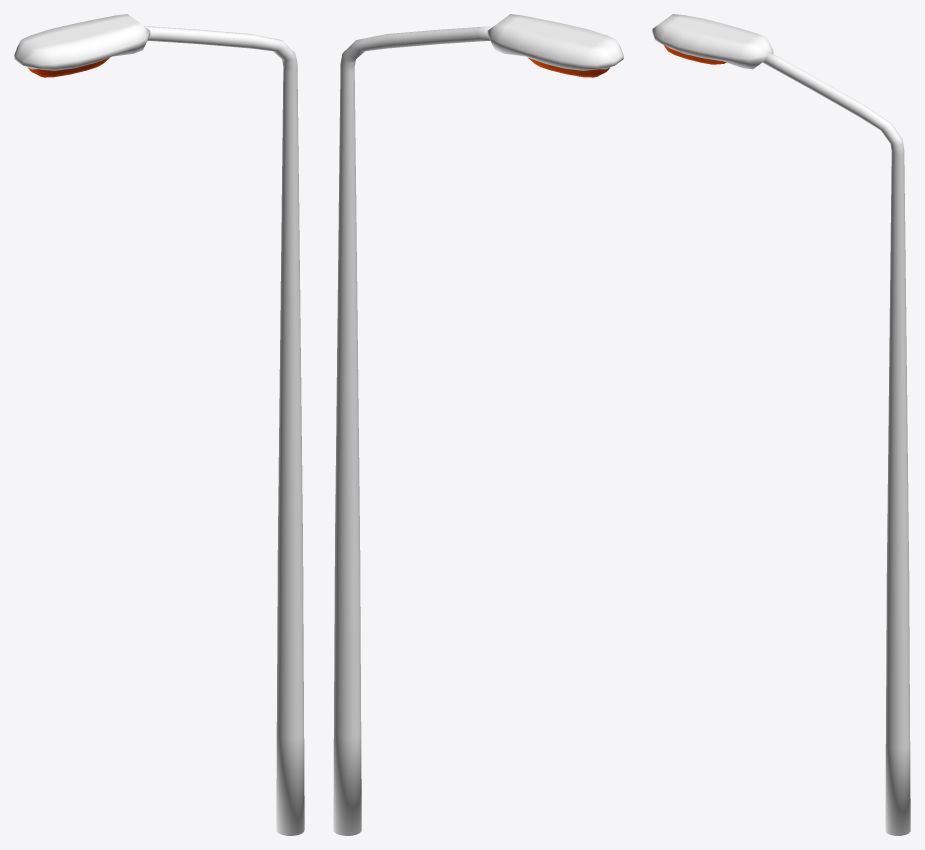
Rendered from street_light.FBX.
The picture shows the model from 3 angles, left to right: view 1: azimuth 30°, elevation 25°; view 2: azimuth 150°, elevation 25°; view 3: azimuth 330°, elevation 25°; orthographic projection. The views are drawn at different scales.
Parts seen in each view (by area): view 1: Cube; view 2: Cube; view 3: Cube.
Part boxes in pixels (box(x1,y1,x2,y2)): Cube: box(14, 14, 304, 835); Cube: box(333, 14, 623, 835); Cube: box(652, 14, 910, 835).
Size of the model in its own units: 35.03 by 99.92 by 7.31.
1 material, 1 textured.
